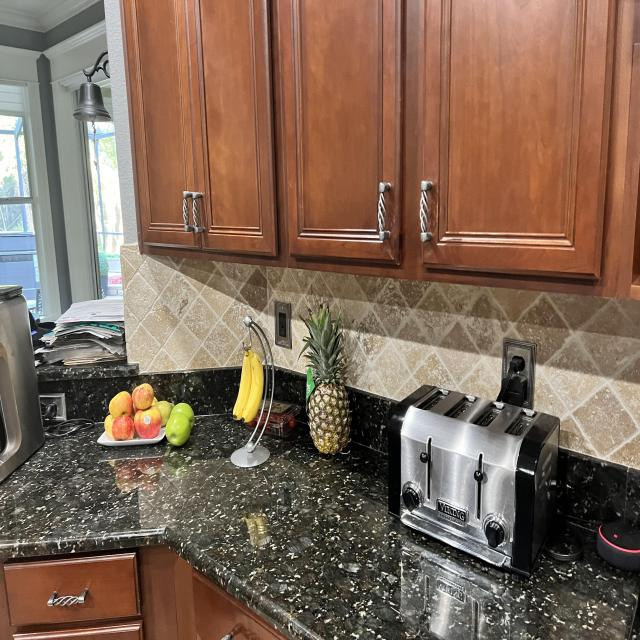Cabinet_Flat: (0, 546, 288, 640)
Cabinet_Shaker: (114, 0, 640, 300)
Countertop_Granite: (0, 369, 640, 640)
